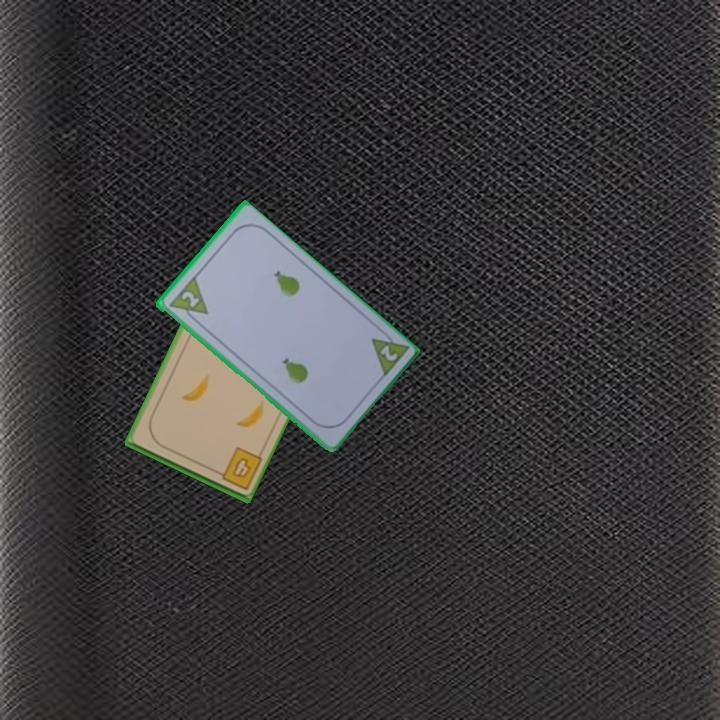2p: (164, 274, 211, 327), (367, 325, 411, 381)
4b: (210, 443, 264, 493)
